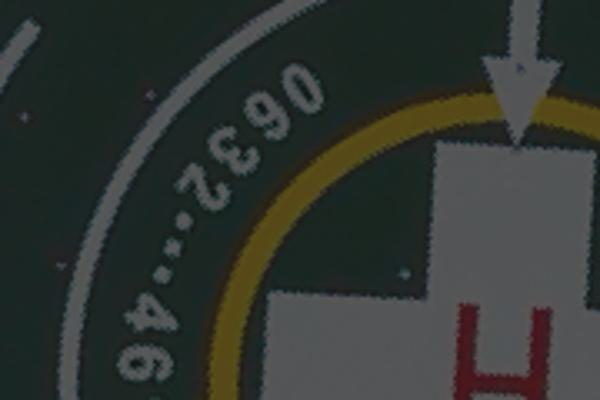Apron: (199, 89, 600, 400)
